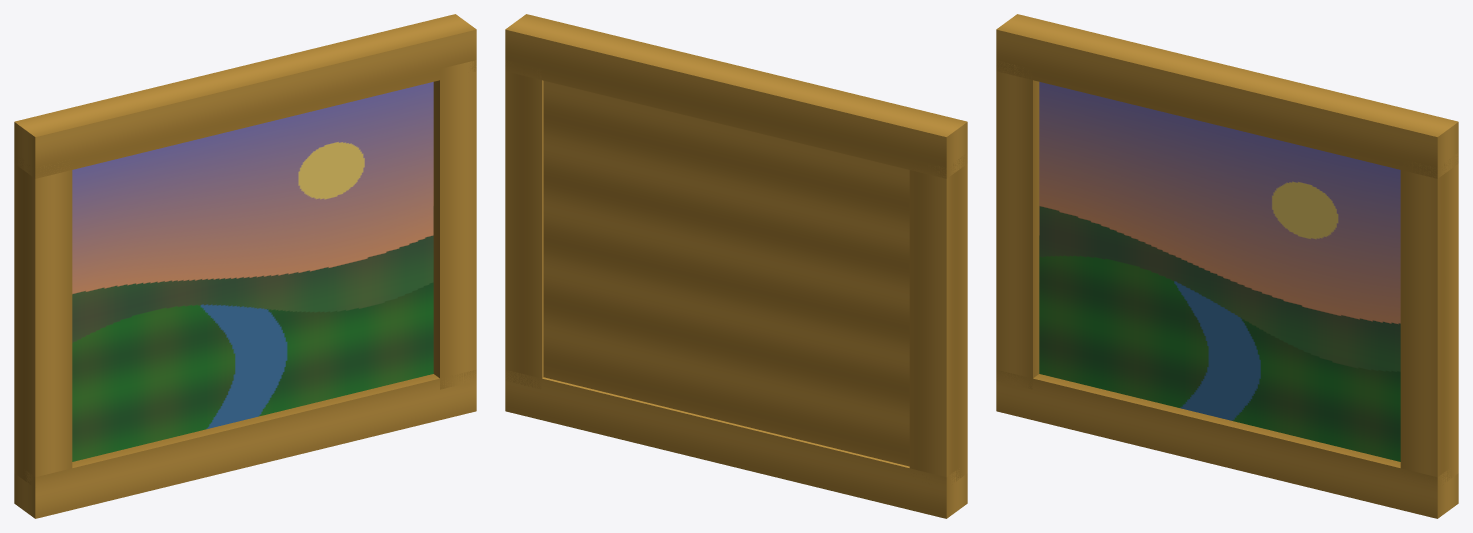
File: cuadro_valle.glb
The picture shows the model from 3 angles, left to right: view 1: azimuth 30°, elevation 25°; view 2: azimuth 150°, elevation 25°; view 3: azimuth 330°, elevation 25°; orthographic projection.
Parts seen in each view (by area): view 1: cuadro_valle; view 2: cuadro_valle; view 3: cuadro_valle.
Part boxes in pixels (left/top/right/bottom): cuadro_valle: left=14, top=14, right=476, bottom=518; cuadro_valle: left=505, top=14, right=967, bottom=518; cuadro_valle: left=996, top=14, right=1458, bottom=518.
Size of the model in its own units: 0.72 by 0.595 by 0.06.
2 materials, 2 textured.
